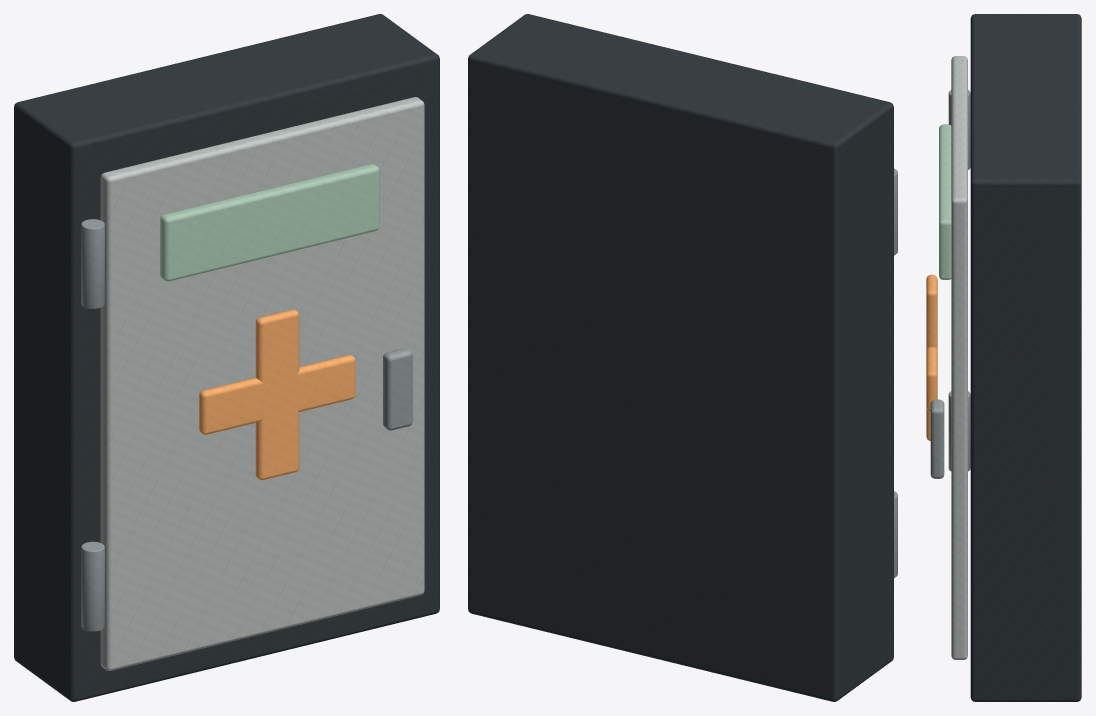
Rendered from WallFirstAidDispenser.glb.
The picture shows the model from 3 angles, left to right: view 1: azimuth 30°, elevation 25°; view 2: azimuth 150°, elevation 25°; view 3: azimuth 270°, elevation 25°; orthographic projection. The views are drawn at different scales.
Visible parts, largest first — view 1: WallFirstAidDispenser_Mesh; view 2: WallFirstAidDispenser_Mesh; view 3: WallFirstAidDispenser_Mesh.
Boxes of the visible parts, x1,y1,x2,y2 form: WallFirstAidDispenser_Mesh: (14, 14, 439, 701); WallFirstAidDispenser_Mesh: (468, 14, 897, 701); WallFirstAidDispenser_Mesh: (926, 14, 1081, 701).
Bounding box in the file's own units: 0.72 × 1.04 × 0.28.
5 materials, 5 textured.
